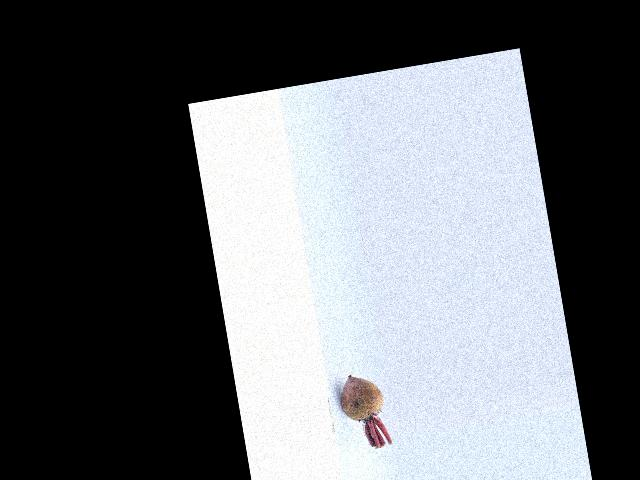beet: (337, 371, 391, 451)
